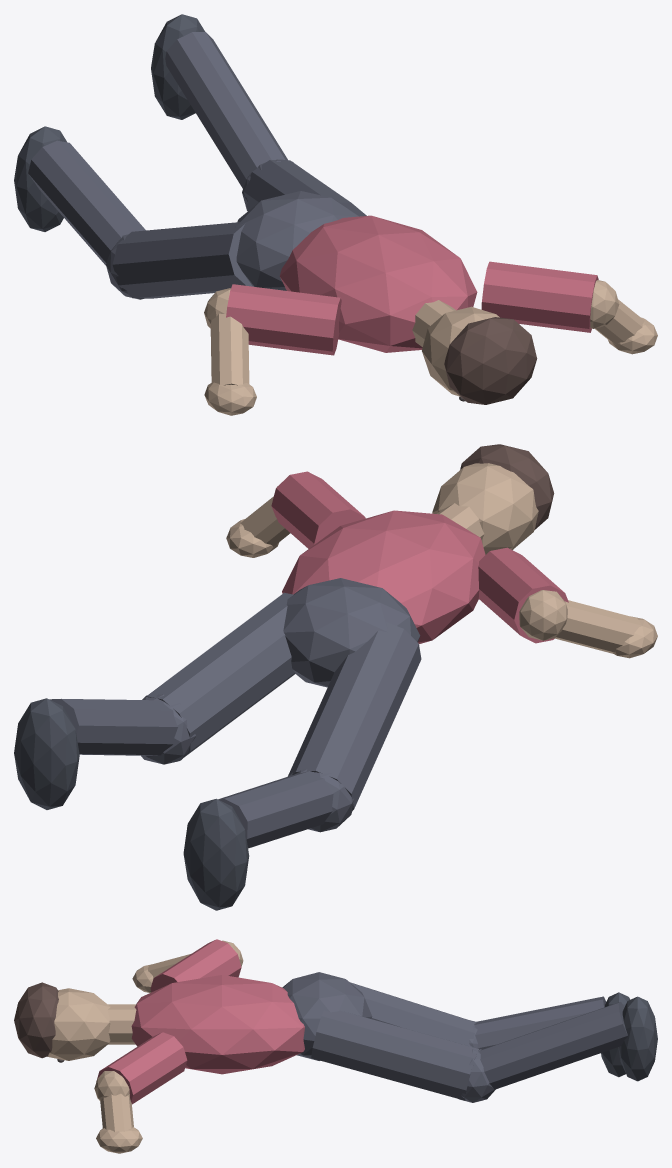
3 renders of one model, top to bottom at view 1: azimuth 30°, elevation 25°; view 2: azimuth 150°, elevation 25°; view 3: azimuth 270°, elevation 25°, orthographic. The views are drawn at different scales.
Parts seen in each view (by area): view 1: world; view 2: world; view 3: world.
Boxes of the visible parts, x1,y1,x2,y2 form: world: (14, 14, 657, 415); world: (14, 444, 657, 910); world: (14, 939, 657, 1153).
Size of the model in its own units: 1.25 by 0.4905 by 2.06.
